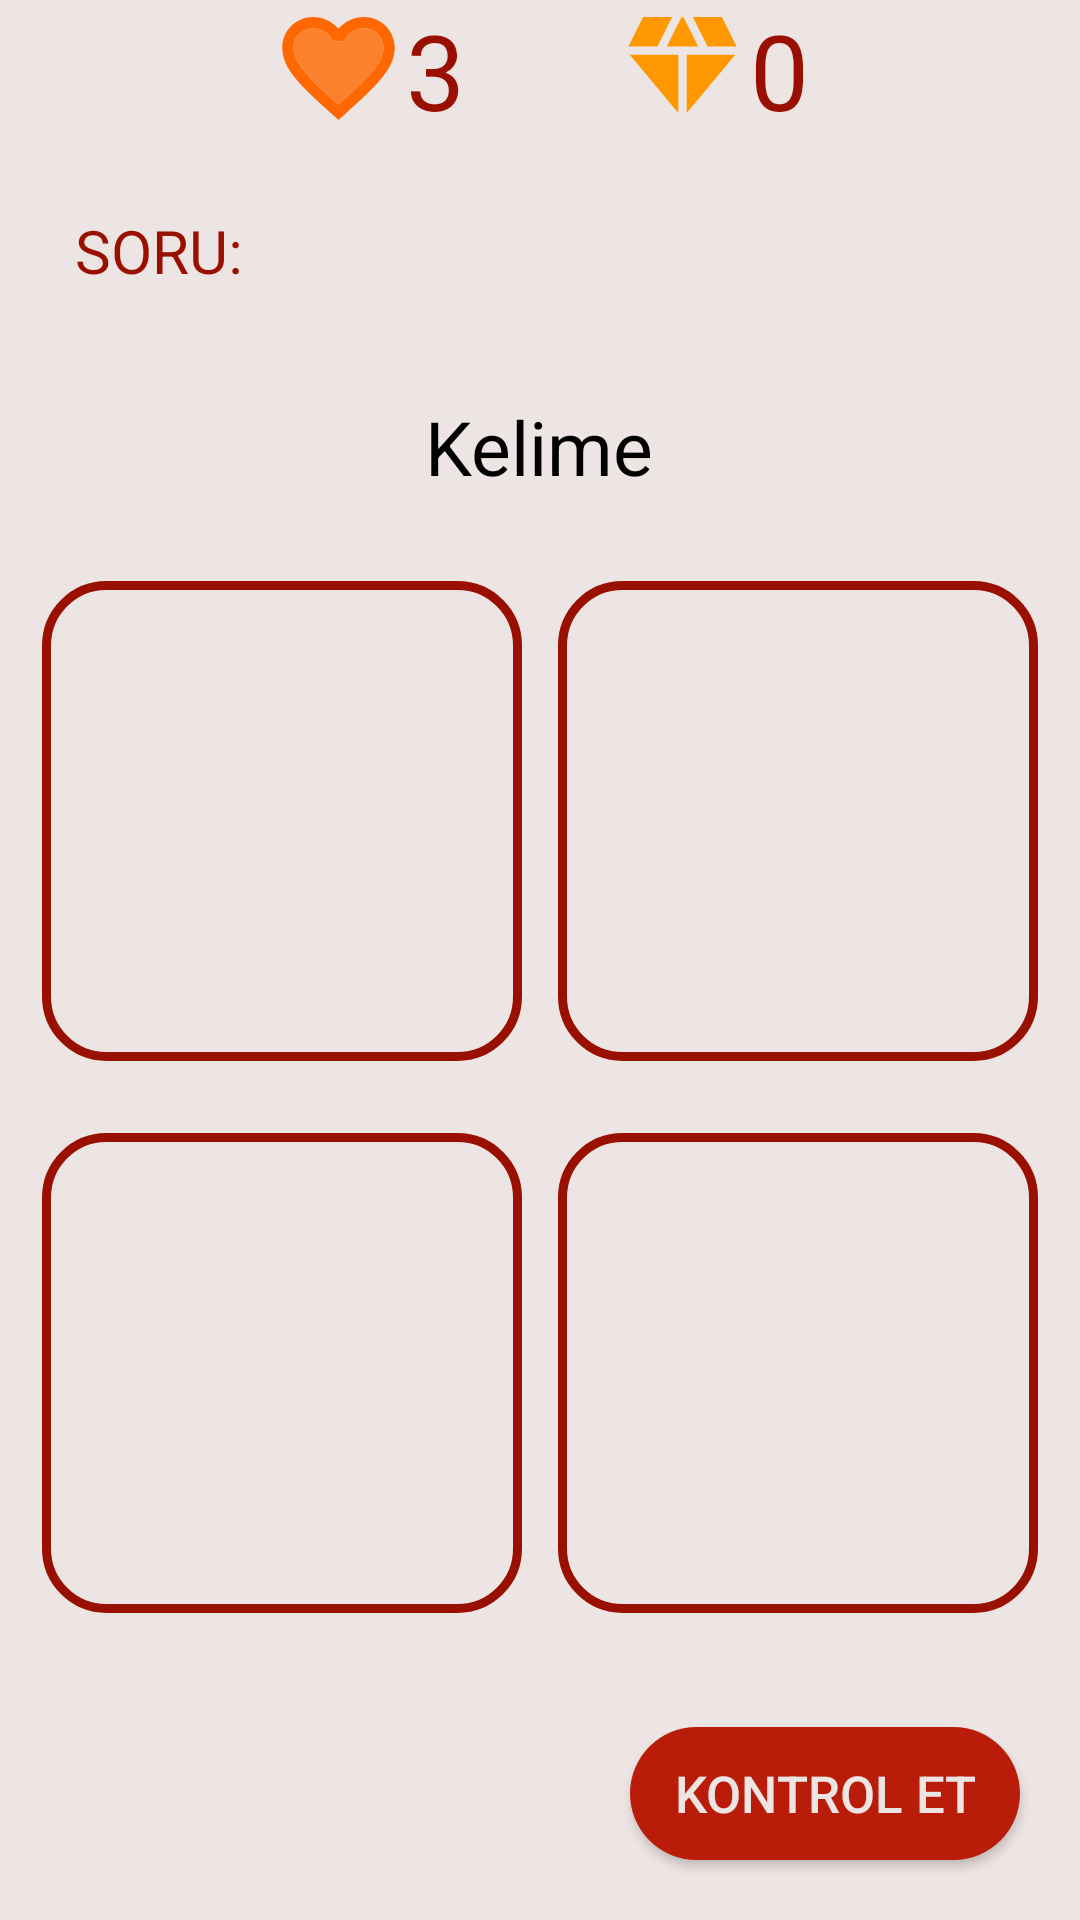

Screen size 1080w x 1920h. Icon name, then its box in pixels as (x1,y1,x2,y2):
can: (282,17,395,120)
puan: (628,17,737,113)
